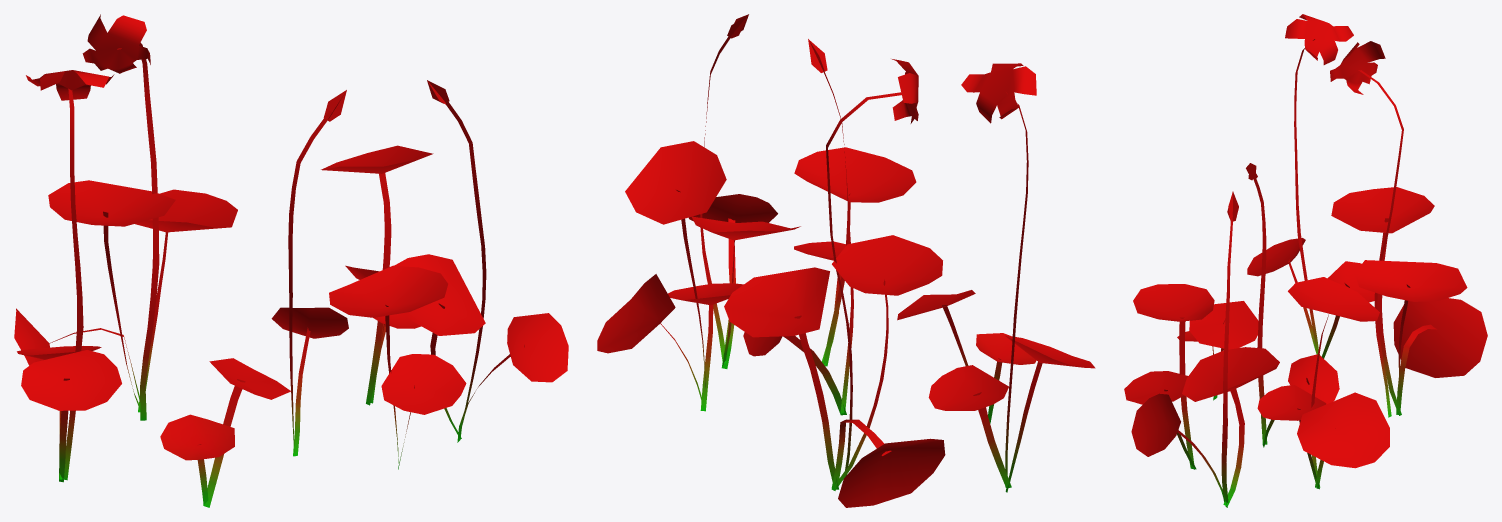
File: Native Violet_LOD3_Var14_ultkcfeja.fbx
3 views of the same model, side by side, from view 1: azimuth 30°, elevation 25°; view 2: azimuth 150°, elevation 25°; view 3: azimuth 270°, elevation 25° (orthographic). The views are drawn at different scales.
Parts seen in each view (by area): view 1: _bhat_Var14_LOD3; view 2: _bhat_Var14_LOD3; view 3: _bhat_Var14_LOD3.
Boxes of the visible parts, box(x1,y1,x2,y2) form: _bhat_Var14_LOD3: box(14, 14, 568, 507); _bhat_Var14_LOD3: box(597, 14, 1095, 507); _bhat_Var14_LOD3: box(1124, 14, 1487, 507).
Size of the model in its own units: 25.84 by 22.46 by 20.61.
